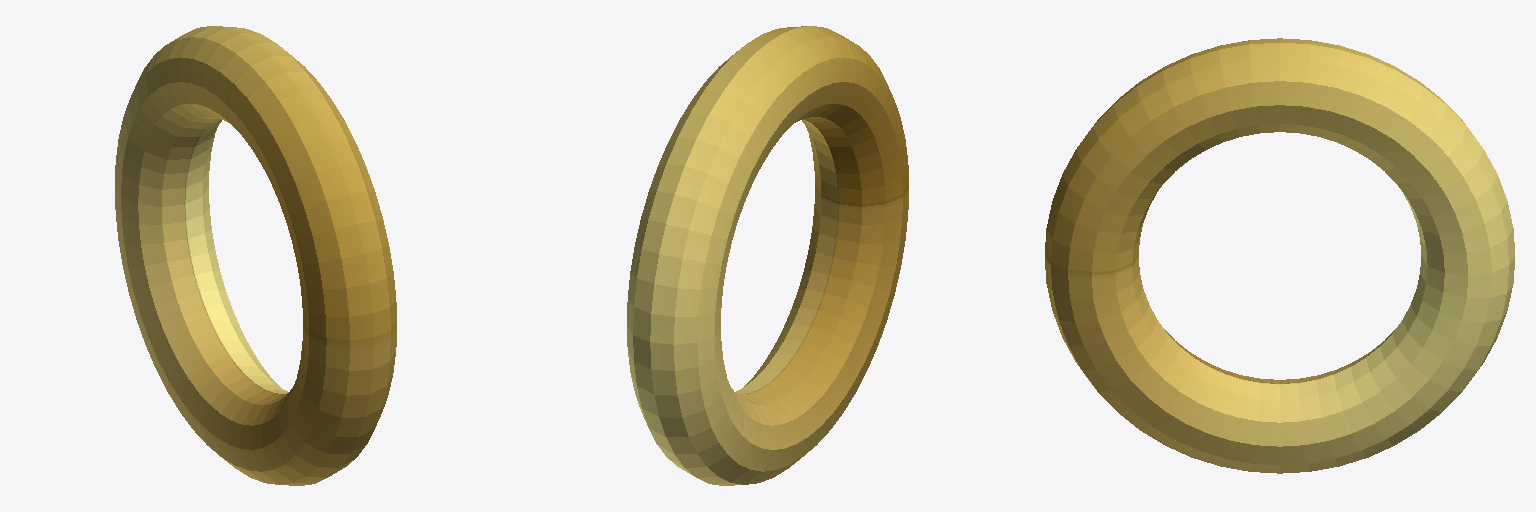
3 renders of one model, left to right at view 1: azimuth 30°, elevation 25°; view 2: azimuth 150°, elevation 25°; view 3: azimuth 270°, elevation 25°, orthographic.
Parts seen in each view (by area): view 1: Rosca; view 2: Rosca; view 3: Rosca.
Part boxes in pixels (left/top/right/bottom): Rosca: left=115, top=26, right=396, bottom=485; Rosca: left=627, top=26, right=908, bottom=485; Rosca: left=1045, top=38, right=1514, bottom=473.
Size of the model in its own units: 0.5 by 2.5 by 2.5.
1 materials, 1 textured.